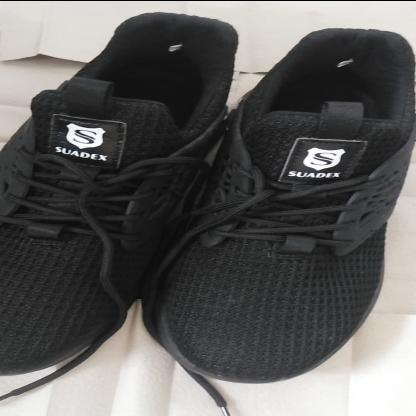safety-shoe: (2, 10, 416, 379)
